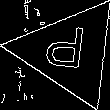P_S: (46, 24, 92, 79)
